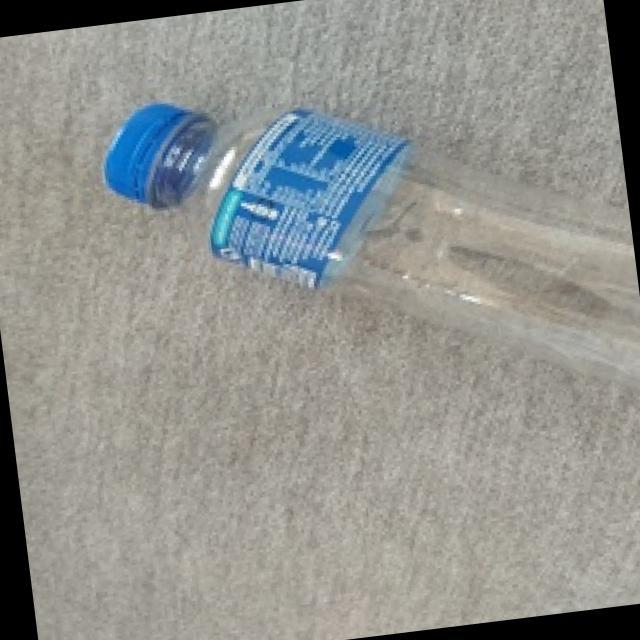good: (90, 36, 640, 449)
